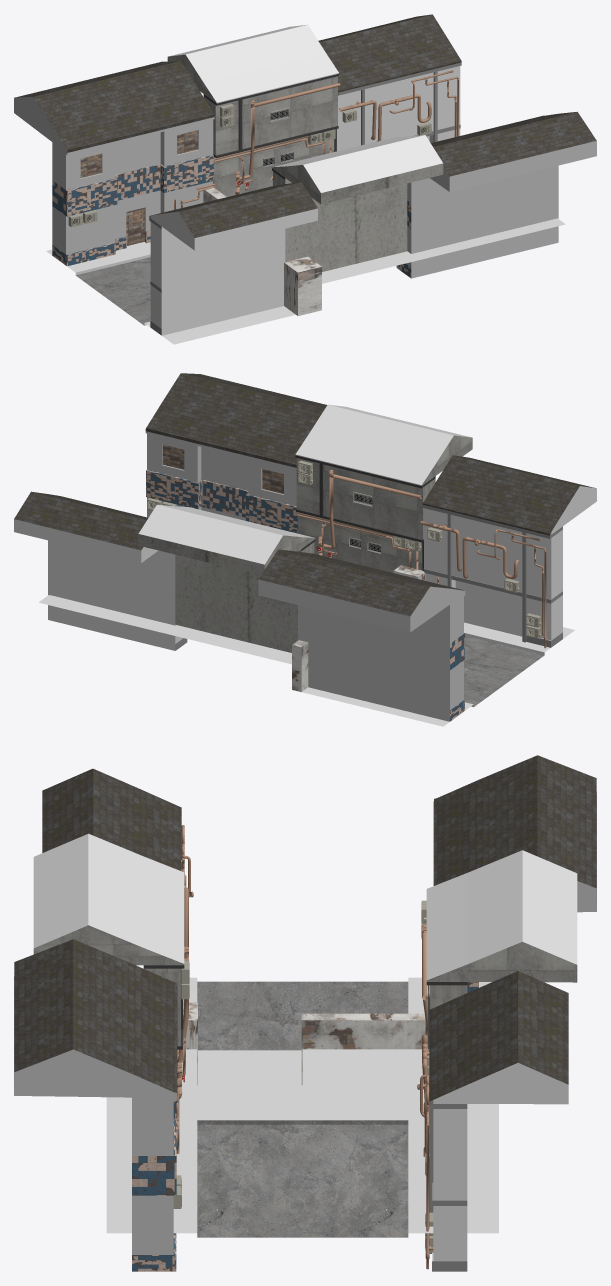
File: down_city.fbx
3 views of the same model, one above another, from view 1: azimuth 30°, elevation 25°; view 2: azimuth 150°, elevation 25°; view 3: azimuth 270°, elevation 25° (orthographic). The views are drawn at different scales.
Parts seen in each view (by area): view 1: Bat3.007, Bat3.006, Bat1.009, Bat2.006, Bat2.007, Bat1.008, down_path; view 2: Bat3.007, Bat2.006, Bat3.006, Bat1.008, Bat2.007, Bat1.009, down_path; view 3: down_path, Bat3.006, Bat2.007, Bat1.009, Bat1.008, Bat3.007, Bat2.006.
Boxes of the visible parts, left/top/right/bottom form: Bat3.007: left=14, top=61, right=214, bottom=266; Bat3.006: left=396, top=111, right=596, bottom=278; Bat1.009: left=167, top=24, right=340, bottom=196; Bat2.006: left=149, top=182, right=317, bottom=335; Bat2.007: left=318, top=14, right=461, bottom=151; Bat1.008: left=270, top=135, right=443, bottom=271; down_path: left=46, top=188, right=565, bottom=344; Bat3.007: left=258, top=549, right=465, bottom=721; Bat2.006: left=420, top=455, right=596, bottom=648; Bat3.006: left=145, top=373, right=327, bottom=533; Bat1.008: left=295, top=404, right=472, bottom=572; Bat2.007: left=14, top=491, right=187, bottom=650; Bat1.009: left=138, top=504, right=315, bottom=652; down_path: left=39, top=565, right=574, bottom=726; down_path: left=106, top=977, right=498, bottom=1237; Bat3.006: left=14, top=939, right=181, bottom=1271; Bat2.007: left=417, top=971, right=568, bottom=1271; Bat1.009: left=421, top=850, right=577, bottom=1075; Bat1.008: left=33, top=833, right=189, bottom=1098; Bat3.007: left=433, top=755, right=596, bottom=992; Bat2.006: left=42, top=768, right=193, bottom=897.
Bounding box in the file's own units: 16135 × 6187 × 13513.
